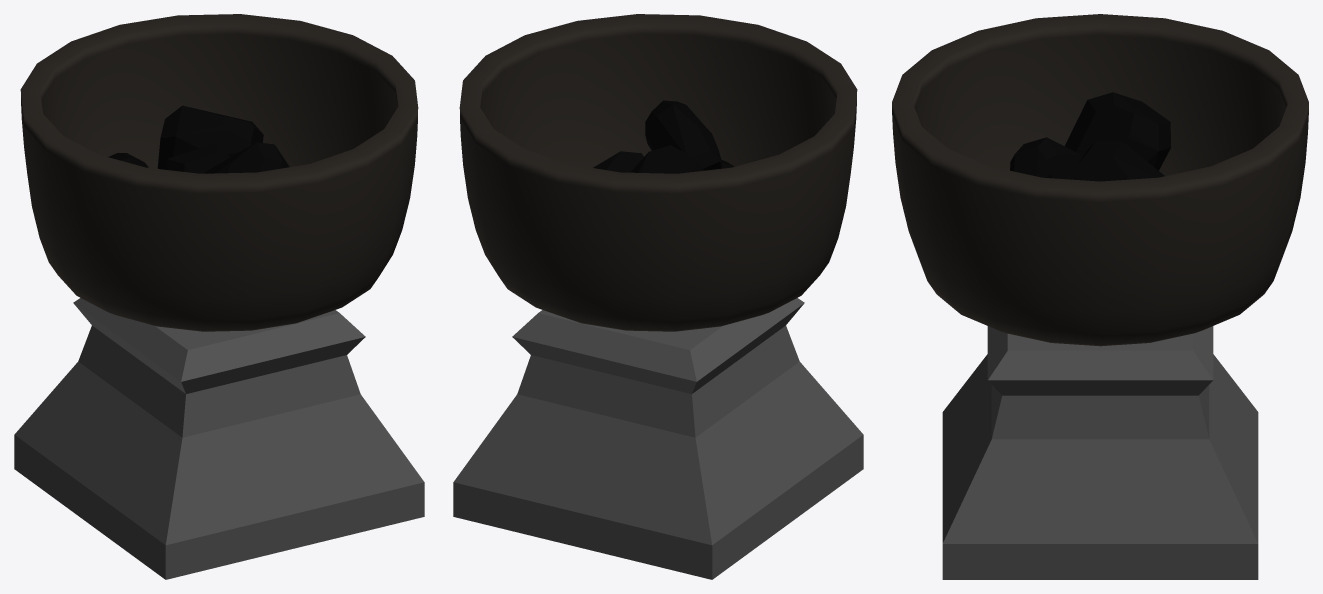
File: Fire_Bowl.fbx
3 views of the same model, side by side, from view 1: azimuth 30°, elevation 25°; view 2: azimuth 150°, elevation 25°; view 3: azimuth 270°, elevation 25° (orthographic). The views are drawn at different scales.
Visible parts, largest first — view 1: Cylinder, Cube, Icosphere.006, Icosphere.005, Icosphere; view 2: Cylinder, Cube, Icosphere.005, Icosphere, Icosphere.002; view 3: Cylinder, Cube, Icosphere.003, Icosphere, Icosphere.005.
Boxes of the visible parts, x1,y1,x2,y2 form: Cylinder: (20,14,418,331); Cube: (14,298,424,579); Icosphere.006: (157,105,263,169); Icosphere.005: (205,142,289,173); Icosphere: (162,143,229,173); Cylinder: (459,14,857,331); Cube: (453,298,863,579); Icosphere.005: (645,100,722,170); Icosphere: (630,145,703,173); Icosphere.002: (593,151,643,172); Cylinder: (892,14,1308,346); Cube: (942,326,1258,579); Icosphere.003: (1064,92,1171,170); Icosphere: (1075,140,1164,181); Icosphere.005: (1010,137,1082,179).
Size of the model in its own units: 126 by 138 by 126.
